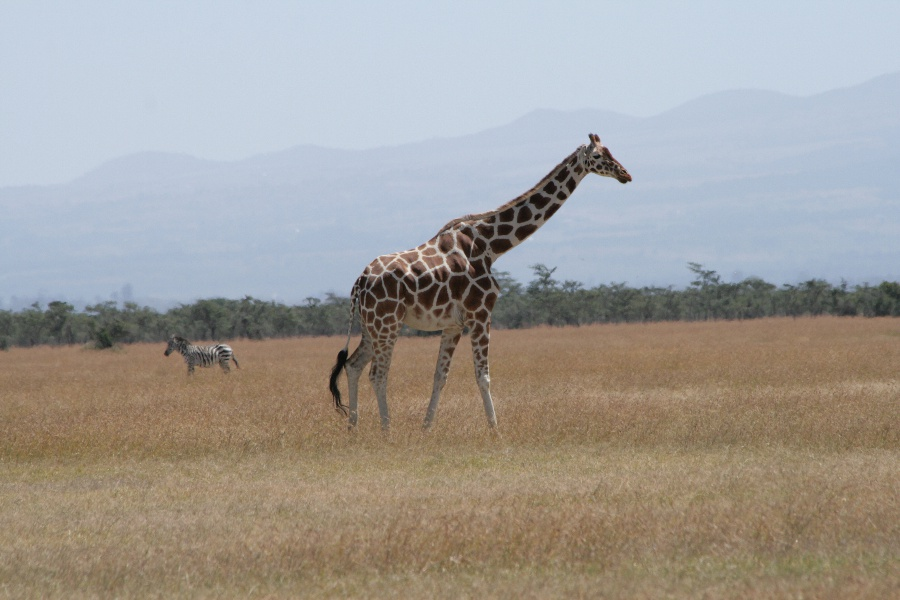giraffe: (323, 128, 630, 437)
